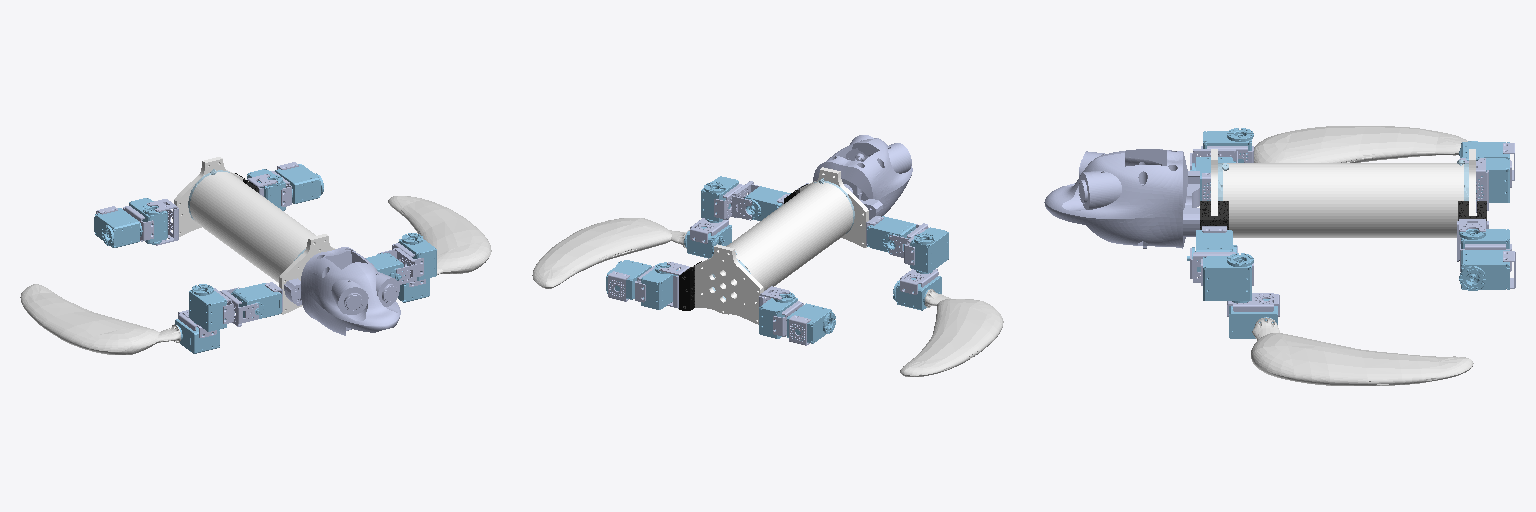
--- Render facts (derived) ---
The picture shows the robot from 3 angles, left to right: view 1: azimuth 30°, elevation 25°; view 2: azimuth 150°, elevation 25°; view 3: azimuth 270°, elevation 25°; orthographic projection.
Robot: turtle — 12 links, 11 joints (10 revolute, 1 fixed); root link base_link; default pose: every joint at zero.
Links seen in each view (by area): view 1: enclosure_assembly, front_flipper, front_flipper_2, right_front_link_1, left_front_link_1, rear_right_link_2, rear_right_link_1, left_rear_link_2, right_front_link_2, left_rear_link_1, left_front_link_2; view 2: enclosure_assembly, front_flipper_2, front_flipper, right_front_link_1, left_front_link_1, rear_right_link_2, left_rear_link_1, right_front_link_2, left_front_link_2, rear_right_link_1, left_rear_link_2; view 3: enclosure_assembly, front_flipper_2, front_flipper, left_front_link_1, left_rear_link_2, left_front_link_2, right_front_link_1, rear_right_link_1, left_rear_link_1, rear_right_link_2.
Link boxes in pixels (x1=…): enclosure_assembly: x1=147, y1=157, x2=404, y2=335; front_flipper: x1=20, y1=284, x2=180, y2=354; front_flipper_2: x1=388, y1=196, x2=491, y2=274; right_front_link_1: x1=189, y1=284, x2=258, y2=331; left_front_link_1: x1=378, y1=233, x2=436, y2=284; rear_right_link_2: x1=94, y1=206, x2=142, y2=247; rear_right_link_1: x1=123, y1=198, x2=167, y2=244; left_rear_link_2: x1=275, y1=162, x2=323, y2=203; right_front_link_2: x1=175, y1=310, x2=219, y2=353; left_rear_link_1: x1=247, y1=169, x2=291, y2=210; left_front_link_2: x1=398, y1=278, x2=429, y2=302; enclosure_assembly: x1=659, y1=135, x2=915, y2=324; front_flipper_2: x1=532, y1=218, x2=689, y2=288; front_flipper: x1=900, y1=289, x2=1003, y2=376; right_front_link_1: x1=889, y1=223, x2=948, y2=273; left_front_link_1: x1=701, y1=176, x2=759, y2=222; rear_right_link_2: x1=787, y1=303, x2=835, y2=345; left_rear_link_1: x1=635, y1=262, x2=678, y2=309; right_front_link_2: x1=893, y1=269, x2=941, y2=310; left_front_link_2: x1=684, y1=218, x2=731, y2=258; rear_right_link_1: x1=759, y1=292, x2=803, y2=338; left_rear_link_2: x1=606, y1=260, x2=651, y2=301; enclosure_assembly: x1=1044, y1=149, x2=1488, y2=271; front_flipper_2: x1=1251, y1=317, x2=1473, y2=385; front_flipper: x1=1254, y1=126, x2=1467, y2=162; left_front_link_1: x1=1190, y1=246, x2=1253, y2=302; left_rear_link_2: x1=1459, y1=250, x2=1515, y2=290; left_front_link_2: x1=1227, y1=293, x2=1279, y2=338; right_front_link_1: x1=1190, y1=128, x2=1253, y2=169; rear_right_link_1: x1=1462, y1=155, x2=1511, y2=202; left_rear_link_1: x1=1459, y1=229, x2=1511, y2=271; rear_right_link_2: x1=1459, y1=141, x2=1514, y2=180.
Bounding box of the posed robot: 0.7196 × 0.5621 × 0.1521 m (x, y, z).
Meshes: 14 distinct files referenced, 41 mesh visuals loaded (13 binary STL); not drawn: 2 (reference not matched to a file when rendering).

The robot description file, URDF, robot "turtle":
<robot name="turtle">
    <mujoco>
        <compiler discardvisual="false" meshdir="../meshes" balanceinertia="true"/>
        <option gravity="0 0 0"/>
    </mujoco>
    <link name="base_link"></link>
    <joint name="base_link_to_base" type="fixed">
        <parent link="base_link"/>
        <child link="enclosure_assembly"/>
        <origin rpy="0.0 0 0" xyz="0 0 0"/>
    </joint>
    <link name="enclosure_assembly">
        <visual>
            <origin xyz="0.069894823202513028937 0.29480474261514377776 -0.010319492083285954076"
                    rpy="1.5707963267948961139 -1.5707963267948958919 0"/>
            <geometry>
                <mesh filename="meshes/fr13-h105k.stl"/>
            </geometry>
            <material name="fr13-h105k_material">
                <color rgba="0.79607843137254896693 0.82352941176470584317 0.9372549019607843146 1.0"/>
            </material>
        </visual>
        <collision>
            <origin xyz="0.069894823202513028937 0.29480474261514377776 -0.010319492083285954076"
                    rpy="1.5707963267948961139 -1.5707963267948958919 0"/>
            <geometry>
                <mesh filename="meshes/fr13-h105k.stl"/>
            </geometry>
        </collision>
        <visual>
            <origin xyz="0.067894823202512999405 -0.013443357384856361586 -0.010319492083285943668"
                    rpy="1.570796326794896558 1.5707963267948958919 0"/>
            <geometry>
                <mesh filename="meshes/fr13-s105k.stl"/>
            </geometry>
            <material name="fr13-s105k_material">
                <color rgba="0.79607843137254896693 0.82352941176470584317 0.9372549019607843146 1.0"/>
            </material>
        </visual>
        <collision>
            <origin xyz="0.067894823202512999405 -0.013443357384856361586 -0.010319492083285943668"
                    rpy="1.570796326794896558 1.5707963267948958919 0"/>
            <geometry>
                <mesh filename="meshes/fr13-s105k.stl"/>
            </geometry>
        </collision>
        <visual>
            <origin xyz="1.2457089914179381487e-17 0.01724124261514363432 0.010314957384859463341"
                    rpy="1.57079632679489678 1.4179035300190464606e-17 1.3877787807773342003e-17"/>
            <geometry>
                <mesh filename="meshes/wte3-m-locking-flange-seal-r1-rp.stl"/>
            </geometry>
            <material name="wte3-m-locking-flange-seal-r1-rp_material">
                <color rgba="0.76862745098039220171 0.88627450980392152857 0.95294117647058818044 1.0"/>
            </material>
        </visual>
        <collision>
            <origin xyz="1.2457089914179381487e-17 0.01724124261514363432 0.010314957384859463341"
                    rpy="1.57079632679489678 1.4179035300190464606e-17 1.3877787807773342003e-17"/>
            <geometry>
                <mesh filename="meshes/wte3-m-locking-flange-seal-r1-rp.stl"/>
            </geometry>
        </collision>
        <visual>
            <origin xyz="0.11889482320251303082 -0.013443357384856332096 -0.010319492083285947137"
                    rpy="1.570796326794896558 1.5707963267948958919 0"/>
            <geometry>
                <mesh filename="meshes/xw540.n105.i101.stp.stl"/>
            </geometry>
            <material name="xw540.n105.i101.stp_material">
                <color rgba="0.61568627450980395466 0.81176470588235294379 0.92941176470588238168 1.0"/>
            </material>
        </visual>
        <collision>
            <origin xyz="0.11889482320251303082 -0.013443357384856332096 -0.010319492083285947137"
                    rpy="1.570796326794896558 1.5707963267948958919 0"/>
            <geometry>
                <mesh filename="meshes/xw540.n105.i101.stp.stl"/>
            </geometry>
        </collision>
        <visual>
            <origin xyz="-0.11889482320353667033 -0.013570357384856356758 -0.010319492083285941933"
                    rpy="1.570796326794896558 -1.570796326794896336 0"/>
            <geometry>
                <mesh filename="meshes/xw540.n105.i101.stp.stl"/>
            </geometry>
            <material name="xw540.n105.i101.stp_material">
                <color rgba="0.61568627450980395466 0.81176470588235294379 0.92941176470588238168 1.0"/>
            </material>
        </visual>
        <collision>
            <origin xyz="-0.11889482320353667033 -0.013570357384856356758 -0.010319492083285941933"
                    rpy="1.570796326794896558 -1.570796326794896336 0"/>
            <geometry>
                <mesh filename="meshes/xw540.n105.i101.stp.stl"/>
            </geometry>
        </collision>
        <visual>
            <origin xyz="2.7209355507438652099e-17 0.14024124261514361867 0.010314957384859489362"
                    rpy="1.57079632679489678 1.4179035300190464606e-17 1.3877787807773342003e-17"/>
            <geometry>
                <mesh filename="meshes/tube.stl"/>
            </geometry>
            <material name="tube_material">
                <color rgba="1 1 1 1.0"/>
            </material>
        </visual>
        <collision>
            <origin xyz="2.7209355507438652099e-17 0.14024124261514361867 0.010314957384859489362"
                    rpy="1.57079632679489678 1.4179035300190464606e-17 1.3877787807773342003e-17"/>
            <geometry>
                <mesh filename="meshes/tube.stl"/>
            </geometry>
        </collision>
        <visual>
            <origin xyz="-0.069894823203536474154 0.29467774261514367851 -0.010319492083285877748"
                    rpy="-1.570796326794896558 -1.570796326794896336 0"/>
            <geometry>
                <mesh filename="meshes/fr13-h105k.stl"/>
            </geometry>
            <material name="fr13-h105k_material">
                <color rgba="0.79607843137254896693 0.82352941176470584317 0.9372549019607843146 1.0"/>
            </material>
        </visual>
        <collision>
            <origin xyz="-0.069894823203536474154 0.29467774261514367851 -0.010319492083285877748"
                    rpy="-1.570796326794896558 -1.570796326794896336 0"/>
            <geometry>
                <mesh filename="meshes/fr13-h105k.stl"/>
            </geometry>
        </collision>
        <visual>
            <origin xyz="2.5502387607082533746e-17 0.26324124261514358913 0.010314957384859510178"
                    rpy="1.570796326794896336 -1.4179035300190464606e-17 -3.141592653589793116"/>
            <geometry>
                <mesh filename="meshes/wte3-m-locking-flange-seal-r1-rp.stl"/>
            </geometry>
            <material name="wte3-m-locking-flange-seal-r1-rp_material">
                <color rgba="0.76862745098039220171 0.88627450980392152857 0.95294117647058818044 1.0"/>
            </material>
        </visual>
        <collision>
            <origin xyz="2.5502387607082533746e-17 0.26324124261514358913 0.010314957384859510178"
                    rpy="1.570796326794896336 -1.4179035300190464606e-17 -3.141592653589793116"/>
            <geometry>
                <mesh filename="meshes/wte3-m-locking-flange-seal-r1-rp.stl"/>
            </geometry>
        </collision>
        <visual>
            <origin xyz="-0.067894823203536500134 -0.013570357384856356758 -0.010319492083285945402"
                    rpy="1.570796326794896558 -1.570796326794896336 0"/>
            <geometry>
                <mesh filename="meshes/fr13-s105k.stl"/>
            </geometry>
            <material name="fr13-s105k_material">
                <color rgba="0.79607843137254896693 0.82352941176470584317 0.9372549019607843146 1.0"/>
            </material>
        </visual>
        <collision>
            <origin xyz="-0.067894823203536500134 -0.013570357384856356758 -0.010319492083285945402"
                    rpy="1.570796326794896558 -1.570796326794896336 0"/>
            <geometry>
                <mesh filename="meshes/fr13-s105k.stl"/>
            </geometry>
        </collision>
        <visual>
            <origin xyz="-0.047933312144871995097 -0.009070357384856356231 -0.038456398802568438067"
                    rpy="1.57079632679489678 1.4179035300190461525e-17 1.3877787807773337381e-17"/>
            <geometry>
                <mesh filename="meshes/shoulder_adapter.stl"/>
            </geometry>
            <material name="shoulder_adapter_material">
                <color rgba="0.25098039215686274161 0.25098039215686274161 0.25098039215686274161 1.0"/>
            </material>
        </visual>
        <collision>
            <origin xyz="-0.047933312144871995097 -0.009070357384856356231 -0.038456398802568438067"
                    rpy="1.57079632679489678 1.4179035300190461525e-17 1.3877787807773337381e-17"/>
            <geometry>
                <mesh filename="meshes/shoulder_adapter.stl"/>
            </geometry>
        </collision>
        <visual>
            <origin xyz="-0.047933312144871995097 -0.0090068573848563360934 -0.038456398802568445006"
                    rpy="1.5707963267948972241 1.4179035300190467688e-17 -5.9793562302346936973e-17"/>
            <geometry>
                <mesh filename="meshes/shoulder_adapter.stl"/>
            </geometry>
            <material name="shoulder_adapter_material">
                <color rgba="0.10980392156862744946 0.10980392156862744946 0.10980392156862744946 1.0"/>
            </material>
        </visual>
        <collision>
            <origin xyz="-0.047933312144871995097 -0.0090068573848563360934 -0.038456398802568445006"
                    rpy="1.5707963267948972241 1.4179035300190467688e-17 -5.9793562302346936973e-17"/>
            <geometry>
                <mesh filename="meshes/shoulder_adapter.stl"/>
            </geometry>
        </collision>
        <visual>
            <origin xyz="-0.047933312144871988159 -0.0090068573848563551754 -0.038456398802568438067"
                    rpy="1.57079632679489678 1.4179035300190464606e-17 1.3877787807773342003e-17"/>
            <geometry>
                <mesh filename="meshes/enclosure_plate.stl"/>
            </geometry>
            <material name="enclosure_plate_material">
                <color rgba="1 1 1 1.0"/>
            </material>
        </visual>
        <collision>
            <origin xyz="-0.047933312144871988159 -0.0090068573848563551754 -0.038456398802568438067"
                    rpy="1.57079632679489678 1.4179035300190464606e-17 1.3877787807773342003e-17"/>
            <geometry>
                <mesh filename="meshes/enclosure_plate.stl"/>
            </geometry>
        </collision>
        <visual>
            <origin xyz="2.9384240013913407991e-16 -0.0406033573848563617 0.010314957384859442524"
                    rpy="1.57079632679489678 1.4179035300190464606e-17 1.3877787807773340462e-17"/>
            <geometry>
                <mesh filename="meshes/head_bottom.stl"/>
            </geometry>
            <material name="head_bottom_material">
                <color rgba="0.79607843137254896693 0.82352941176470584317 0.9372549019607843146 1.0"/>
            </material>
        </visual>
        <collision>
            <origin xyz="2.9384240013913407991e-16 -0.0406033573848563617 0.010314957384859442524"
                    rpy="1.57079632679489678 1.4179035300190464606e-17 1.3877787807773340462e-17"/>
            <geometry>
                <mesh filename="meshes/head_bottom.stl"/>
            </geometry>
        </collision>
        <visual>
            <origin xyz="2.9384240013913407991e-16 -0.040603357384856375578 0.010314957384859439055"
                    rpy="1.57079632679489678 1.4179035300190464606e-17 1.3877787807773340462e-17"/>
            <geometry>
                <mesh filename="meshes/head_top.stl"/>
            </geometry>
            <material name="head_top_material">
                <color rgba="0.79607843137254896693 0.82352941176470584317 0.9372549019607843146 1.0"/>
            </material>
        </visual>
        <collision>
            <origin xyz="2.9384240013913407991e-16 -0.040603357384856375578 0.010314957384859439055"
                    rpy="1.57079632679489678 1.4179035300190464606e-17 1.3877787807773340462e-17"/>
            <geometry>
                <mesh filename="meshes/head_top.stl"/>
            </geometry>
        </collision>
        <visual>
            <origin xyz="-0.04793331214487198122 0.29917774261514373801 -0.038456398802568389494"
                    rpy="1.57079632679489678 1.4179035300190461525e-17 1.3877787807773337381e-17"/>
            <geometry>
                <mesh filename="meshes/shoulder_adapter.stl"/>
            </geometry>
            <material name="shoulder_adapter_material">
                <color rgba="0.25098039215686274161 0.25098039215686274161 0.25098039215686274161 1.0"/>
            </material>
        </visual>
        <collision>
            <origin xyz="-0.04793331214487198122 0.29917774261514373801 -0.038456398802568389494"
                    rpy="1.57079632679489678 1.4179035300190461525e-17 1.3877787807773337381e-17"/>
            <geometry>
                <mesh filename="meshes/shoulder_adapter.stl"/>
            </geometry>
        </collision>
        <visual>
            <origin xyz="-0.04793331214487198122 0.29924124261514373213 -0.038456398802568389494"
                    rpy="1.5707963267948972241 1.4179035300190467688e-17 -5.9793562302346936973e-17"/>
            <geometry>
                <mesh filename="meshes/shoulder_adapter.stl"/>
            </geometry>
            <material name="shoulder_adapter_material">
                <color rgba="0.10980392156862744946 0.10980392156862744946 0.10980392156862744946 1.0"/>
            </material>
        </visual>
        <collision>
            <origin xyz="-0.04793331214487198122 0.29924124261514373213 -0.038456398802568389494"
                    rpy="1.5707963267948972241 1.4179035300190467688e-17 -5.9793562302346936973e-17"/>
            <geometry>
                <mesh filename="meshes/shoulder_adapter.stl"/>
            </geometry>
        </collision>
        <visual>
            <origin xyz="-0.04793331214487198122 0.29924124261514367662 -0.038456398802568375617"
                    rpy="1.57079632679489678 1.4179035300190464606e-17 1.3877787807773342003e-17"/>
            <geometry>
                <mesh filename="meshes/enclosure_plate.stl"/>
            </geometry>
            <material name="enclosure_plate_material">
                <color rgba="1 1 1 1.0"/>
            </material>
        </visual>
        <collision>
            <origin xyz="-0.04793331214487198122 0.29924124261514367662 -0.038456398802568375617"
                    rpy="1.57079632679489678 1.4179035300190464606e-17 1.3877787807773342003e-17"/>
            <geometry>
                <mesh filename="meshes/enclosure_plate.stl"/>
            </geometry>
        </collision>
        <visual>
            <origin xyz="-0.026710281898386943611 -0.1454799077985637068 0.03570296254706342709"
                    rpy="1.3089968257464532631 -1.5707963267948958919 0"/>
            <geometry>
                <mesh filename="meshes/explorehd_2.0_public.step-1-solid1.stl"/>
            </geometry>
            <material name="explorehd_2.0_public.step-1-solid1_material">
                <color rgba="0.79607843137254896693 0.82352941176470584317 0.9372549019607843146 1.0"/>
            </material>
        </visual>
        <collision>
            <origin xyz="-0.026710281898386943611 -0.1454799077985637068 0.03570296254706342709"
                    rpy="1.3089968257464532631 -1.5707963267948958919 0"/>
            <geometry>
                <mesh filename="meshes/explorehd_2.0_public.step-1-solid1.stl"/>
            </geometry>
        </collision>
        <visual>
            <origin xyz="-0.026710281898386943611 -0.14547990779856351251 0.035702962547063656074"
                    rpy="1.3089968257464532631 -1.5707963267948956698 0"/>
            <geometry>
                <mesh filename="meshes/explorehd_2.0_case_public.step-1_standoff_and_washer_v4_(1).step-1-solid1.stl"/>
            </geometry>
            <material name="explorehd_2.0_case_public.step-1/standoff_and_washer_v4_(1).step-1-solid1_material">
                <color rgba="0.79607843137254896693 0.82352941176470584317 0.9372549019607843146 1.0"/>
            </material>
        </visual>
        <collision>
            <origin xyz="-0.026710281898386943611 -0.14547990779856351251 0.035702962547063656074"
                    rpy="1.3089968257464532631 -1.5707963267948956698 0"/>
            <geometry>
                <mesh filename="meshes/explorehd_2.0_case_public.step-1_standoff_and_washer_v4_(1).step-1-solid1.stl"/>
            </geometry>
        </collision>
        <visual>
            <origin xyz="0.020914727116519558903 -0.14703282272552137266 0.035702962547063461785"
                    rpy="1.832595827843340075 -1.5707963267948958919 0"/>
            <geometry>
                <mesh filename="meshes/explorehd_2.0_public.step-1-solid1.stl"/>
            </geometry>
            <material name="explorehd_2.0_public.step-1-solid1_material">
                <color rgba="0.79607843137254896693 0.82352941176470584317 0.9372549019607843146 1.0"/>
            </material>
        </visual>
        <collision>
            <origin xyz="0.020914727116519558903 -0.14703282272552137266 0.035702962547063461785"
                    rpy="1.832595827843340075 -1.5707963267948958919 0"/>
            <geometry>
                <mesh filename="meshes/explorehd_2.0_public.step-1-solid1.stl"/>
            </geometry>
        </collision>
        <visual>
            <origin xyz="0.020914727116519503392 -0.14703282272552120613 0.03570296254706367689"
                    rpy="1.832595827843340075 -1.5707963267948956698 0"/>
            <geometry>
                <mesh filename="meshes/explorehd_2.0_case_public.step-1_standoff_and_washer_v4_(1).step-1-solid1.stl"/>
            </geometry>
            <material name="explorehd_2.0_case_public.step-1/standoff_and_washer_v4_(1).step-1-solid1_material">
                <color rgba="0.79607843137254896693 0.82352941176470584317 0.9372549019607843146 1.0"/>
            </material>
        </visual>
        <collision>
            <origin xyz="0.020914727116519503392 -0.14703282272552120613 0.03570296254706367689"
                    rpy="1.832595827843340075 -1.5707963267948956698 0"/>
            <geometry>
                <mesh filename="meshes/explorehd_2.0_case_public.step-1_standoff_and_washer_v4_(1).step-1-solid1.stl"/>
            </geometry>
        </collision>
        <inertial>
            <origin xyz="4.1435743363660197626e-07 0.084475575081515666409 0.0069731387364608873186" rpy="0 0 0"/>
            <mass value="2.9553047122120736923"/>
            <inertia ixx="0.061042834427142159126" ixy="-2.0694784858418194956e-06" ixz="-3.572498240346521671e-08"
                     iyy="0.0094178638007044821606" iyz="0.00016294589614341051503" izz="0.066158015901618794086"/>
        </inertial>
    </link>

    <link name="right_front_link_1">
        <visual>
            <origin xyz="0.032000000000000000666 -2.0816681711721685133e-17 0.042000000000000030365"
                    rpy="1.570796326794896558 1.570796326794896336 0"/>
            <geometry>
                <mesh filename="meshes/fr13-s106k.stl"/>
            </geometry>
            <material name="fr13-s106k_material">
                <color rgba="0.79607843137254896693 0.82352941176470584317 0.9372549019607843146 1.0"/>
            </material>
        </visual>
        <collision>
            <origin xyz="0.032000000000000000666 -2.0816681711721685133e-17 0.042000000000000030365"
                    rpy="1.570796326794896558 1.570796326794896336 0"/>
            <geometry>
                <mesh filename="meshes/fr13-s106k.stl"/>
            </geometry>
        </collision>
        <visual>
            <origin xyz="0.02999999999999999889 0 0.026499999999999995781"
                    rpy="-1.570796326794896558 -1.570796326794896558 0"/>
            <geometry>
                <mesh filename="meshes/fr13-h105k.stl"/>
            </geometry>
            <material name="fr13-h105k_material">
                <color rgba="0.79607843137254896693 0.82352941176470584317 0.9372549019607843146 1.0"/>
            </material>
        </visual>
        <collision>
            <origin xyz="0.02999999999999999889 0 0.026499999999999995781"
                    rpy="-1.570796326794896558 -1.570796326794896558 0"/>
            <geometry>
                <mesh filename="meshes/fr13-h105k.stl"/>
            </geometry>
        </collision>
        <visual>
            <origin xyz="0.058000000000000051514 6.9388939039072283776e-18 0.057500000000000106581"
                    rpy="1.570796326794896336 -2.693587739886386577e-24 -4.2677522837721315523e-16"/>
            <geometry>
                <mesh filename="meshes/xw540.n105.i101.stp.stl"/>
            </geometry>
            <material name="xw540.n105.i101.stp_material">
                <color rgba="0.61568627450980395466 0.81176470588235294379 0.92941176470588238168 1.0"/>
            </material>
        </visual>
        <collision>
            <origin xyz="0.058000000000000051514 6.9388939039072283776e-18 0.057500000000000106581"
                    rpy="1.570796326794896336 -2.693587739886386577e-24 -4.2677522837721315523e-16"/>
            <geometry>
                <mesh filename="meshes/xw540.n105.i101.stp.stl"/>
            </geometry>
        </collision>
        <inertial>
            <origin xyz="0.053506049593864790648 -0.00012798970313840344237 0.041309178718401860786" rpy="0 0 0"/>
            <mass value="0.23765309404962933759"/>
            <inertia ixx="0.0001197601833361052815" ixy="1.3669315868615752402e-07" ixz="-9.1950112817159984342e-06"
                     iyy="0.00012572203867313122582" iyz="4.917597751976435795e-07" izz="8.8732448708732378022e-05"/>
        </inertial>
    </link>

    <link name="right_front_link_2">
        <visual>
            <origin xyz="-0.01549999999999999295 0 0"
                    rpy="-1.570796326794896558 4.9303806576313237838e-32 6.1629758223729292447e-33"/>
            <geometry>
                <mesh filename="meshes/fr13-s106k.stl"/>
            </geometry>
            <material name="fr13-s106k_material">
                <color rgba="0.79607843137254896693 0.82352941176470584317 0.9372549019607843146 1.0"/>
            </material>
        </visual>
        <collision>
            <origin xyz="-0.01549999999999999295 0 0"
                    rpy="-1.570796326794896558 4.9303806576313237838e-32 6.1629758223729292447e-33"/>
            <geometry>
                <mesh filename="meshes/fr13-s106k.stl"/>
            </geometry>
        </collision>
        <visual>
            <origin xyz="-0.0310000000000001108 -2.7755575615628913511e-17 -0.025999999999999967581"
                    rpy="1.57079632679489678 -1.570796326794896336 0"/>
            <geometry>
                <mesh filename="meshes/xw540.n105.i101.stp.stl"/>
            </geometry>
            <material name="xw540.n105.i101.stp_material">
                <color rgba="0.61568627450980395466 0.81176470588235294379 0.92941176470588238168 1.0"/>
            </material>
        </visual>
        <collision>
            <origin xyz="-0.0310000000000001108 -2.7755575615628913511e-17 -0.025999999999999967581"
                    rpy="1.57079632679489678 -1.570796326794896336 0"/>
            <geometry>
                <mesh filename="meshes/xw540.n105.i101.stp.stl"/>
            </geometry>
        </collision>
        <inertial>
            <origin xyz="-0.016101673005059588539 -0.00013995662800101192407 -0.024253576994100477932" rpy="0 0 0"/>
            <mass value="0.21733267935778124991"/>
            <inertia ixx="6.4918636413437537727e-05" ixy="-4.4909670188136024313e-07" ixz="-2.2836787309402011426e-07"
                     iyy="9.1336723727688409291e-05" iyz="-5.312120893707209606e-08" izz="0.0001034261007669390049"/>
        </inertial>
    </link>

    <link name="front_flipper">
        <visual>
            <origin xyz="0.19339823512768739011 -6.1062266354383609723e-16 0.02267981084835724026"
                    rpy="3.4638086311640550079e-15 1.43850036949372595 -3.7376744394926532817e-31"/>
            <geometry>
                <mesh filename="meshes/front_flipper.stl"/>
            </geometry>
            <material name="front_flipper_material">
                <color rgba="0.91764705882352937127 0.91764705882352937127 0.91764705882352937127 1.0"/>
            </material>
        </visual>
        <collision>
            <origin xyz="0.19339823512768739011 -6.1062266354383609723e-16 0.02267981084835724026"
                    rpy="3.4638086311640550079e-15 1.43850036949372595 -3.7376744394926532817e-31"/>
            <geometry>
                <mesh filename="meshes/front_flipper.stl"/>
            </geometry>
        </collision>
        <inertial>
            <origin xyz="0.086683931286960683171 -1.5647023142954187861e-06 -0.099645620122474840019" rpy="0 0 0"/>
            <mass value="0.47500000000000008882"/>
            <inertia ixx="0.00042823162691391422749" ixy="-2.4161504416345081369e-08" ixz="0.0004293991296851875695"
                     iyy="0.0022656752788487288103" iyz="-7.1048083018717267854e-09" izz="0.0018800229737218122385"/>
        </inertial>
    </link>

    <joint name="shoulderR3" type="revolute">
        <origin xyz="-0.031000000000000083045 -0.02649999999999994027 -0.025999999999999967581"
                rpy="1.5707963267948961139 3.614302492129942415e-16 -3.1415926535897926719"/>
        <parent link="right_front_link_2"/>
        <child link="front_flipper"/>
        <axis xyz="0 0 1"/>
        <limit effort="1" velocity="20"/>
        <joint_properties friction="0.0"/>
    </joint>

    <joint name="shoulderR2" type="revolute">
        <origin xyz="0.057999999999999996003 -0.026499999999999954148 0.057500000000000009437"
                rpy="-1.570796326794896336 1.570796326794896336 0"/>
        <parent link="right_front_link_1"/>
        <child link="right_front_link_2"/>
        <axis xyz="0 0 1"/>
        <limit effort="1" velocity="20"/>
        <joint_properties friction="0.0"/>
    </joint>

    <joint name="shoulderR1" type="revolute">
        <origin xyz="-0.11889482320353667033 -0.040070357384856439276 -0.010319492083285940198"
                rpy="1.570796326794896558 -4.2677522822244673145e-16 -3.141592653589793116"/>
        <parent link="enclosure_assembly"/>
        <child link="right_front_link_1"/>
        <axis xyz="0 0 1"/>
        <limit effort="1" velocity="20"/>
        <joint_properties friction="0.0"/>
    </joint>

    <link name="left_front_link_1">
        <visual>
            <origin xyz="0.058000000000000551115 1.2143064331837649661e-17 -0.0045000000000001948164"
                    rpy="-1.570796326794896558 5.5511151231098433977e-17 3.141592653589793116"/>
            <geometry>
                <mesh filename="meshes/xw540.n105.i101.stp.stl"/>
            </geometry>
            <material name="xw540.n105.i101.stp_material">
                <color rgba="0.61568627450980395466 0.81176470588235294379 0.92941176470588238168 1.0"/>
            </material>
        </visual>
        <collision>
            <origin xyz="0.058000000000000551115 1.2143064331837649661e-17 -0.0045000000000001948164"
                    rpy="-1.570796326794896558 5.5511151231098433977e-17 3.141592653589793116"/>
            <geometry>
                <mesh filename="meshes/xw540.n105.i101.stp.stl"/>
            </geometry>
        </collision>
        <visual>
            <origin xyz="0.032000000000000028422 2.7755575615628913511e-17 0.010999999999999903952"
                    rpy="1.570796326794896558 1.570796326794896558 0"/>
            <geometry>
                <mesh filename="meshes/fr13-s106k.stl"/>
            </geometry>
            <material name="fr13-s106k_material">
                <color rgba="0.79607843137254896693 0.82352941176470584317 0.9372549019607843146 1.0"/>
            </material>
        </visual>
        <collision>
            <origin xyz="0.032000000000000028422 2.7755575615628913511e-17 0.010999999999999903952"
                    rpy="1.570796326794896558 1.570796326794896558 0"/>
            <geometry>
                <mesh filename="meshes/fr13-s106k.stl"/>
            </geometry>
        </collision>
        <visual>
            <origin xyz="0.02999999999999999889 0 0.02650000000000000272"
                    rpy="1.570796326794896558 1.570796326794896558 0"/>
            <geometry>
                <mesh filename="meshes/fr13-h105k.stl"/>
            </geometry>
            <material name="fr13-h105k_material">
                <color rgba="0.79607843137254896693 0.82352941176470584317 0.9372549019607843146 1.0"/>
            </material>
        </visual>
        <collision>
            <origin xyz="0.02999999999999999889 0 0.02650000000000000272"
                    rpy="1.570796326794896558 1.570796326794896558 0"/>
            <geometry>
                <mesh filename="meshes/fr13-h105k.stl"/>
            </geometry>
        </collision>
        <inertial>
            <origin xyz="0.053506049593750534821 -0.00012798970313839455192 0.011690821281598155063" rpy="0 0 0"/>
            <mass value="0.23765309404962933759"/>
            <inertia ixx="0.00011976018333610899489" ixy="1.3669315913792214939e-07" ixz="9.1950112843162150935e-06"
                     iyy="0.00012572203867288898795" iyz="-4.8841069312510792092e-07" izz="8.8732448708489137265e-05"/>
        </inertial>
    </link>

    <link name="left_front_link_2">
        <visual>
            <origin xyz="0.031000000000000332845 2.498001805406602216e-16 -0.025999999999999592881"
                    rpy="1.570796326794896558 1.570796326794896558 0"/>
            <geometry>
                <mesh filename="meshes/xw540.n105.i101.stp.stl"/>
            </geometry>
            <material name="xw540.n105.i101.stp_material">
                <color rgba="0.61568627450980395466 0.81176470588235294379 0.92941176470588238168 1.0"/>
            </material>
        </visual>
        <collision>
            <origin xyz="0.031000000000000332845 2.498001805406602216e-16 -0.025999999999999592881"
                    rpy="1.570796326794896558 1.570796326794896558 0"/>
            <geometry>
                <mesh filename="meshes/xw540.n105.i101.stp.stl"/>
            </geometry>
        </collision>
        <visual>
            <origin xyz="0.015499999999999999889 0 0" rpy="-1.570796326794896558 -0 7.6084727776971584431e-34"/>
            <geometry>
                <mesh filename="meshes/fr13-s106k.stl"/>
            </geometry>
            <material name="fr13-s106k_material">
                <color rgba="0.79607843137254896693 0.82352941176470584317 0.9372549019607843146 1.0"/>
            </material>
        </visual>
        <collision>
            <origin xyz="0.015499999999999999889 0 0" rpy="-1.570796326794896558 -0 7.6084727776971584431e-34"/>
            <geometry>
                <mesh filename="meshes/fr13-s106k.stl"/>
            </geometry>
        </collision>
        <inertial>
            <origin xyz="0.016101673005060018751 -0.00013995662800075675709 -0.024253576994225530677" rpy="0 0 0"/>
            <mass value="0.21733267935778124991"/>
            <inertia ixx="6.4918636413530643589e-05" ixy="4.5244578395383777407e-07" ixz="2.2836787045884026425e-07"
                     iyy="9.1336723727779726219e-05" iyz="-5.3121208484952014636e-08" izz="0.00010342610076693277074"/>
        </inertial>
    </link>

    <link name="front_flipper_2">
        <visual>
            <origin xyz="0.19339823512768747338 -5.9674487573602164048e-16 0.022679810848357295772"
                    rpy="3.4638086311640569801e-15 1.43850036949372595 0"/>
            <geometry>
                <mesh filename="meshes/front_flipper.stl"/>
            </geometry>
            <material name="front_flipper_material">
                <color rgba="0.91764705882352937127 0.91764705882352937127 0.91764705882352937127 1.0"/>
            </material>
        </visual>
        <collision>
            <origin xyz="0.19339823512768747338 -5.9674487573602164048e-16 0.022679810848357295772"
                    rpy="3.4638086311640569801e-15 1.43850036949372595 0"/>
            <geometry>
                <mesh filename="meshes/front_flipper.stl"/>
            </geometry>
        </collision>
        <inertial>
            <origin xyz="0.08668393128696075256 -1.5647023142815409983e-06 -0.099645620122474798386" rpy="0 0 0"/>
            <mass value="0.47500000000000008882"/>
            <inertia ixx="0.00042823162691391439012" ixy="-2.4161504416345084678e-08" ixz="0.00042939912968518762371"
                     iyy="0.0022656752788487288103" iyz="-7.1048083018717284398e-09" izz="0.0018800229737218126722"/>
        </inertial>
    </link>

    <joint name="shoulderL3" type="revolute">
        <origin xyz="0.031000000000000325906 -0.02649999999999899658 -0.025999999999999592881"
                rpy="-1.570796326794896558 -1.516928903233870835e-13 2.0816681711577003113e-16"/>
        <parent link="left_front_link_2"/>
        <child link="front_flipper_2"/>
        <axis xyz="0 0 1"/>
        <limit effort="1" velocity="20"/>
        <joint_properties friction="0.0"/>
    </joint>

    <joint name="shoulderL2" type="revolute">
        <origin xyz="0.058000000000000551115 -0.02650000000000025599 -0.0045000000000001739997"
                rpy="-1.570796326794896558 1.570796326794896558 0"/>
        <parent link="left_front_link_1"/>
        <child link="left_front_link_2"/>
        <axis xyz="0 0 1"/>
        <limit effort="1" velocity="20"/>
        <joint_properties friction="0.0"/>
    </joint>

    <joint name="shoulderL1" type="revolute">
        <origin xyz="0.1188948232025135443 0.012956642615143504696 -0.010319492083285928055"
                rpy="1.5707963267948972241 2.0061271302034394322e-16 1.3877787807767273012e-17"/>
        <parent link="enclosure_assembly"/>
        <child link="left_front_link_1"/>
        <axis xyz="0 0 1"/>
        <limit effort="1" velocity="20"/>
        <joint_properties friction="0.0"/>
    </joint>

    <link name="rear_right_link_1">
        <visual>
            <origin xyz="0 0 -0.026399999999999999856" rpy="3.141592653589793116 -0 -5.21020655579469012e-33"/>
            <geometry>
                <mesh filename="meshes/xw540.n105.i101.stp.stl"/>
            </geometry>
            <material name="xw540.n105.i101.stp_material">
                <color rgba="0.61568627450980395466 0.81176470588235294379 0.92941176470588238168 1.0"/>
            </material>
        </visual>
        <collision>
            <origin xyz="0 0 -0.026399999999999999856" rpy="3.141592653589793116 -0 -5.21020655579469012e-33"/>
            <geometry>
                <mesh filename="meshes/xw540.n105.i101.stp.stl"/>
            </geometry>
        </collision>
        <visual>
            <origin xyz="-0.026000000000000314526 0.015500000000000457856 -0.026400000000000124756"
                    rpy="-3.141592653589793116 1.2325951644078103644e-31 1.570796326794896336"/>
            <geometry>
                <mesh filename="meshes/fr13-s106k.stl"/>
            </geometry>
            <material name="fr13-s106k_material">
                <color rgba="0.79607843137254896693 0.82352941176470584317 0.9372549019607843146 1.0"/>
            </material>
        </visual>
        <collision>
            <origin xyz="-0.026000000000000314526 0.015500000000000457856 -0.026400000000000124756"
                    rpy="-3.141592653589793116 1.2325951644078103644e-31 1.570796326794896336"/>
            <geometry>
                <mesh filename="meshes/fr13-s106k.stl"/>
            </geometry>
        </collision>
        <inertial>
            <origin xyz="-0.0017464230057741112097 0.014898326994940661039 -0.026539956628001001859" rpy="0 0 0"/>
            <mass value="0.21733267935778124991"/>
            <inertia ixx="0.00010342610076694004845" ixy="2.2836787045875161696e-07" ixz="5.3121208484983930573e-08"
                     iyy="6.4918636413533896195e-05" iyz="-4.524457839538791728e-07" izz="9.1336723727784564471e-05"/>
        </inertial>
    </link>

    <link name="rear_right_link_2">
        <visual>
            <origin xyz="-1.7347234759768070944e-18 -5.5511151231257827021e-17 -0.026499999999999995781"
                    rpy="6.162975822039116413e-33 -0 0"/>
            <geometry>
                <mesh filename="meshes/xw540.n105.i101.stp.stl"/>
            </geometry>
            <material name="xw540.n105.i101.stp_material">
                <color rgba="0.61568627450980395466 0.81176470588235294379 0.92941176470588238168 1.0"/>
            </material>
        </visual>
        <collision>
            <origin xyz="-1.7347234759768070944e-18 -5.5511151231257827021e-17 -0.026499999999999995781"
                    rpy="6.162975822039116413e-33 -0 0"/>
            <geometry>
                <mesh filename="meshes/xw540.n105.i101.stp.stl"/>
            </geometry>
        </collision>
        <visual>
            <origin xyz="-3.8163916471489756077e-17 -0.076078609753962300744 -0.029918400788916443833"
                    rpy="-2.6950666385799572288e-16 -0.70607843085865351629 1.570796326794896558"/>
            <geometry>
                <mesh filename="meshes/rear_flipper.stl"/>
            </geometry>
            <material name="rear_flipper_material">
                <color rgba="0.76862745098039220171 0.88627450980392152857 0.95294117647058818044 1.0"/>
            </material>
        </visual>
        <collision>
            <origin xyz="-3.8163916471489756077e-17 -0.076078609753962300744 -0.029918400788916443833"
                    rpy="-2.6950666385799572288e-16 -0.70607843085865351629 1.570796326794896558"/>
            <geometry>
                <mesh filename="meshes/rear_flipper.stl"/>
            </geometry>
        </collision>
        <visual>
            <origin xyz="-1.7347234759768070944e-18 -0.051000000000000045297 -0.026499999999999995781"
                    rpy="1.6653345369377355502e-16 -0 0"/>
            <geometry>
                <mesh filename="meshes/fr13-s105k.stl"/>
            </geometry>
            <material name="fr13-s105k_material">
                <color rgba="0.79607843137254896693 0.82352941176470584317 0.9372549019607843146 1.0"/>
            </material>
        </visual>
        <collision>
            <origin xyz="-1.7347234759768070944e-18 -0.051000000000000045297 -0.026499999999999995781"
                    rpy="1.6653345369377355502e-16 -0 0"/>
            <geometry>
                <mesh filename="meshes/fr13-s105k.stl"/>
            </geometry>
        </collision>
        <inertial>
            <origin xyz="-1.4543076731163512317e-07 -0.058528945898489018185 -0.022109379305518803149" rpy="0 0 0"/>
            <mass value="0.37872549359169516148"/>
            <inertia ixx="0.0011478951582088120584" ixy="-5.3727660966579143001e-09" ixz="-1.9957224760609606449e-09"
                     iyy="0.00012584810123618598416" iyz="8.3859902421649571e-05" izz="0.0010750923540025912779"/>
        </inertial>
    </link>

    <joint name="hipR2" type="revolute">
        <origin xyz="-0.026000000000000314526 2.2204460492503130808e-16 -0.026400000000000124756"
                rpy="-3.141592653589793116 -1.570796326794896558 0"/>
        <parent link="rear_right_link_1"/>
        <child link="rear_right_link_2"/>
        <axis xyz="0 0 1"/>
        <limit effort="1" velocity="20"/>
        <joint_properties friction="0.0"/>
    </joint>

    <joint name="hipR1" type="revolute">
        <origin xyz="-0.099894823203536473044 0.29467774261514367851 0.016180507916713764149"
                rpy="1.6653345369377350572e-16 -1.1674349087908804224e-16 -9.714451465474372182e-17"/>
        <parent link="enclosure_assembly"/>
        <child link="rear_right_link_1"/>
        <axis xyz="0 0 1"/>
        <limit effort="1" velocity="20"/>
        <joint_properties friction="0.0"/>
    </joint>

    <link name="left_rear_link_1">
        <visual>
            <origin xyz="0.025999999999999953704 0.0155000000000001803 -0.026399999999999985978"
                    rpy="-6.4711246131410971396e-32 -0 1.570796326794896558"/>
            <geometry>
                <mesh filename="meshes/fr13-s106k.stl"/>
            </geometry>
            <material name="fr13-s106k_material">
                <color rgba="0.79607843137254896693 0.82352941176470584317 0.9372549019607843146 1.0"/>
            </material>
        </visual>
        <collision>
            <origin xyz="0.025999999999999953704 0.0155000000000001803 -0.026399999999999985978"
                    rpy="-6.4711246131410971396e-32 -0 1.570796326794896558"/>
            <geometry>
                <mesh filename="meshes/fr13-s106k.stl"/>
            </geometry>
        </collision>
        <visual>
            <origin xyz="0 0 -0.026399999999999999856" rpy="3.141592653589793116 -0 -6.6890380429462890787e-35"/>
            <geometry>
                <mesh filename="meshes/xw540.n105.i101.stp.stl"/>
            </geometry>
            <material name="xw540.n105.i101.stp_material">
                <color rgba="0.61568627450980395466 0.81176470588235294379 0.92941176470588238168 1.0"/>
            </material>
        </visual>
        <collision>
            <origin xyz="0 0 -0.026399999999999999856" rpy="3.141592653589793116 -0 -6.6890380429462890787e-35"/>
            <geometry>
                <mesh filename="meshes/xw540.n105.i101.stp.stl"/>
            </geometry>
        </collision>
        <inertial>
            <origin xyz="0.0017464230058994872647 0.014898326994940638487 -0.026539956628000987982" rpy="0 0 0"/>
            <mass value="0.21733267935778124991"/>
            <inertia ixx="0.00010342610076693962832" ixy="-2.283678730939878476e-07" ixz="-5.3121208937085787554e-08"
                     iyy="6.4918636413438445746e-05" iyz="-4.4909670188133430275e-07" izz="9.1336723727688964945e-05"/>
        </inertial>
    </link>

    <link name="left_rear_link_2">
        <visual>
            <origin xyz="-1.7347234759768070944e-18 -0.050999999999999934275 -0.026499999999999995781"
                    rpy="-4.2710307956740333408e-32 -0 0"/>
            <geometry>
                <mesh filename="meshes/fr13-s105k.stl"/>
            </geometry>
            <material name="fr13-s105k_material">
                <color rgba="0.79607843137254896693 0.82352941176470584317 0.9372549019607843146 1.0"/>
            </material>
        </visual>
        <collision>
            <origin xyz="-1.7347234759768070944e-18 -0.050999999999999934275 -0.026499999999999995781"
                    rpy="-4.2710307956740333408e-32 -0 0"/>
            <geometry>
                <mesh filename="meshes/fr13-s105k.stl"/>
            </geometry>
        </collision>
        <visual>
            <origin xyz="0 0 -0.026499999999999995781" rpy="6.5934986195729030618e-33 -0 0"/>
            <geometry>
                <mesh filename="meshes/xw540.n105.i101.stp.stl"/>
            </geometry>
            <material name="xw540.n105.i101.stp_material">
                <color rgba="0.61568627450980395466 0.81176470588235294379 0.92941176470588238168 1.0"/>
            </material>
        </visual>
        <collision>
            <origin xyz="0 0 -0.026499999999999995781" rpy="6.5934986195729030618e-33 -0 0"/>
            <geometry>
                <mesh filename="meshes/xw540.n105.i101.stp.stl"/>
            </geometry>
        </collision>
        <visual>
            <origin xyz="-1.9081958235744878039e-17 -0.076078609753962300744 -0.029918400788916332811"
                    rpy="-3.4800536822435545772e-16 -0.70607843085865362731 1.570796326794896336"/>
            <geometry>
                <mesh filename="meshes/rear_flipper.stl"/>
            </geometry>
            <material name="rear_flipper_material">
                <color rgba="0.76862745098039220171 0.88627450980392152857 0.95294117647058818044 1.0"/>
            </material>
        </visual>
        <collision>
            <origin xyz="-1.9081958235744878039e-17 -0.076078609753962300744 -0.029918400788916332811"
                    rpy="-3.4800536822435545772e-16 -0.70607843085865362731 1.570796326794896336"/>
            <geometry>
                <mesh filename="meshes/rear_flipper.stl"/>
            </geometry>
        </collision>
        <inertial>
            <origin xyz="-1.4543076730671330588e-07 -0.058528945898489004307 -0.02210937930551873723" rpy="0 0 0"/>
            <mass value="0.37872549359169516148"/>
            <inertia ixx="0.00114789515820881401" ixy="-5.3727660966506624077e-09" ixz="-1.9957224760651048198e-09"
                     iyy="0.00012584810123618649915" iyz="8.3859902421650953357e-05" izz="0.0010750923540025940969"/>
        </inertial>
    </link>

    <joint name="hipL2" type="revolute">
        <origin xyz="0.025999999999999925948 1.1102230246251565404e-16 -0.026399999999999985978"
                rpy="-3.141592653589793116 1.5707963267948961139 0"/>
        <parent link="left_rear_link_1"/>
        <child link="left_rear_link_2"/>
        <axis xyz="0 0 1"/>
        <limit effort="1" velocity="20"/>
        <joint_properties friction="0.0"/>
    </joint>

    <joint name="hipL1" type="revolute">
        <origin xyz="0.099894823202513263749 0.29480474261514355572 0.016180507916714232525"
                rpy="2.2204460492503697802e-16 1.4179035300190896014e-17 1.387778780781382351e-17"/>
        <parent link="enclosure_assembly"/>
        <child link="left_rear_link_1"/>
        <axis xyz="0 0 1"/>
        <limit effort="1" velocity="20"/>
        <joint_properties friction="0.0"/>
    </joint>


</robot>
